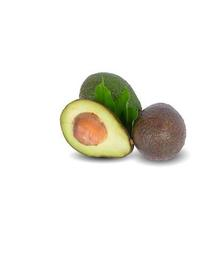avocado: (60, 99, 134, 159), (79, 72, 142, 140), (132, 102, 186, 162)
